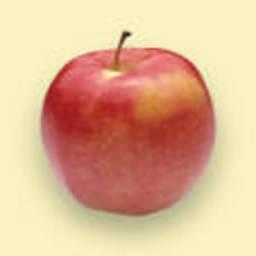apple: (39, 35, 216, 215)
